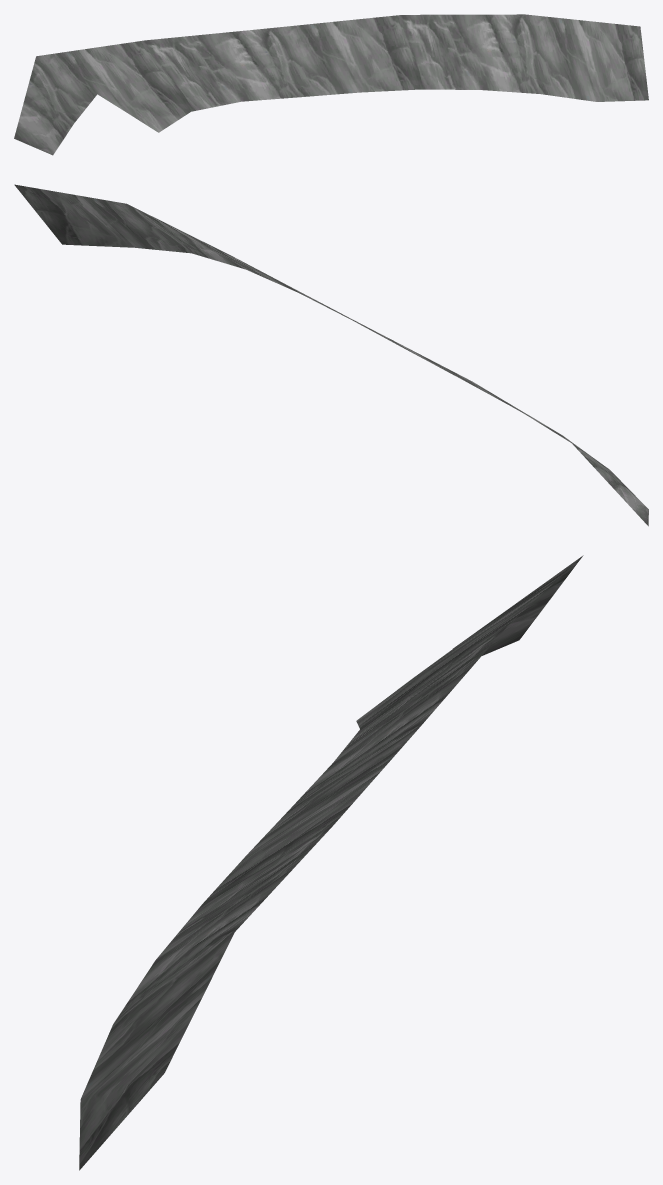
Rendered from SWORDLIGHT20_PS-AREA04_24.fbx.
The picture shows the model from 3 angles, top to bottom: view 1: azimuth 30°, elevation 25°; view 2: azimuth 150°, elevation 25°; view 3: azimuth 270°, elevation 25°; orthographic projection. The views are drawn at different scales.
Visible parts, largest first — view 1: SWORDLIGHT20_PS-AREA04_24; view 2: SWORDLIGHT20_PS-AREA04_24; view 3: SWORDLIGHT20_PS-AREA04_24.
Boxes of the visible parts, bbox=[...] form: SWORDLIGHT20_PS-AREA04_24: bbox=[14, 14, 648, 155]; SWORDLIGHT20_PS-AREA04_24: bbox=[14, 184, 648, 526]; SWORDLIGHT20_PS-AREA04_24: bbox=[79, 555, 583, 1170].
Size of the model in its own units: 123428 by 18334 by 50155.
1 material, 1 textured.
